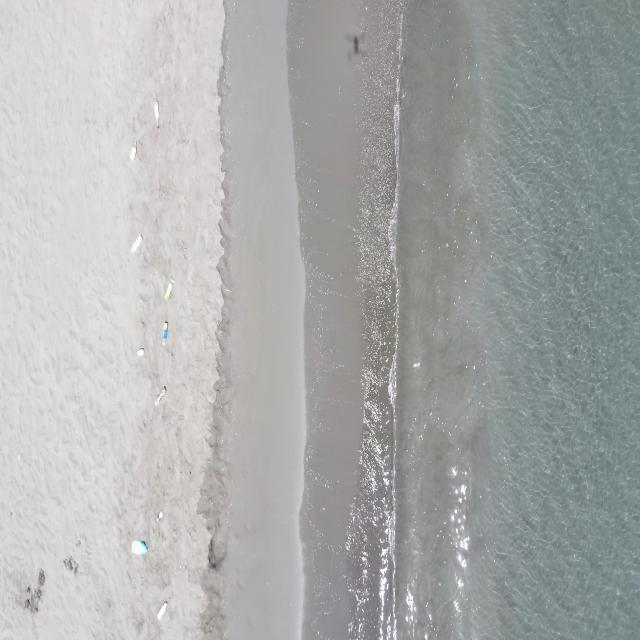plastic-bottle: (130, 539, 148, 557), (128, 233, 143, 254), (153, 386, 167, 406), (163, 277, 174, 302), (156, 602, 168, 622), (129, 141, 140, 161), (161, 321, 169, 347), (153, 100, 160, 128), (154, 508, 164, 524), (135, 348, 145, 357)
